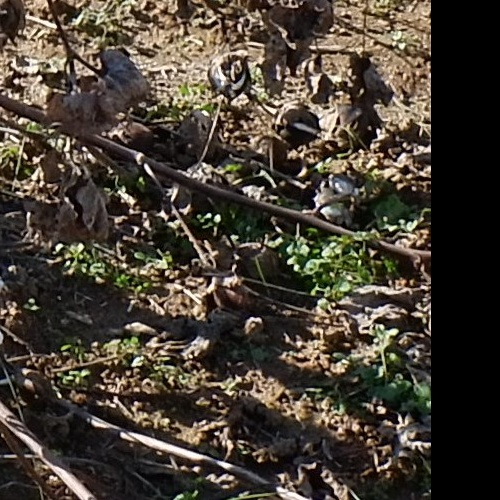immature_boll: (1, 21, 430, 286)
